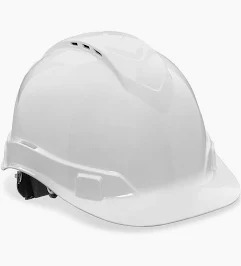Casco de seguridad: (1, 28, 241, 233)
